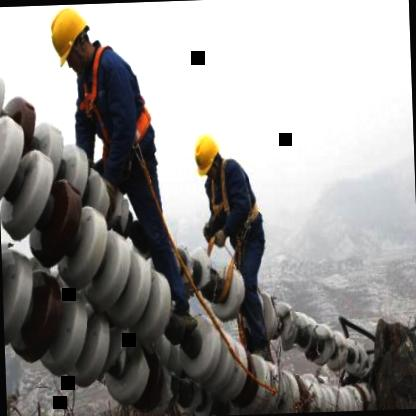helmet: (42, 3, 102, 78), (191, 128, 223, 187)
